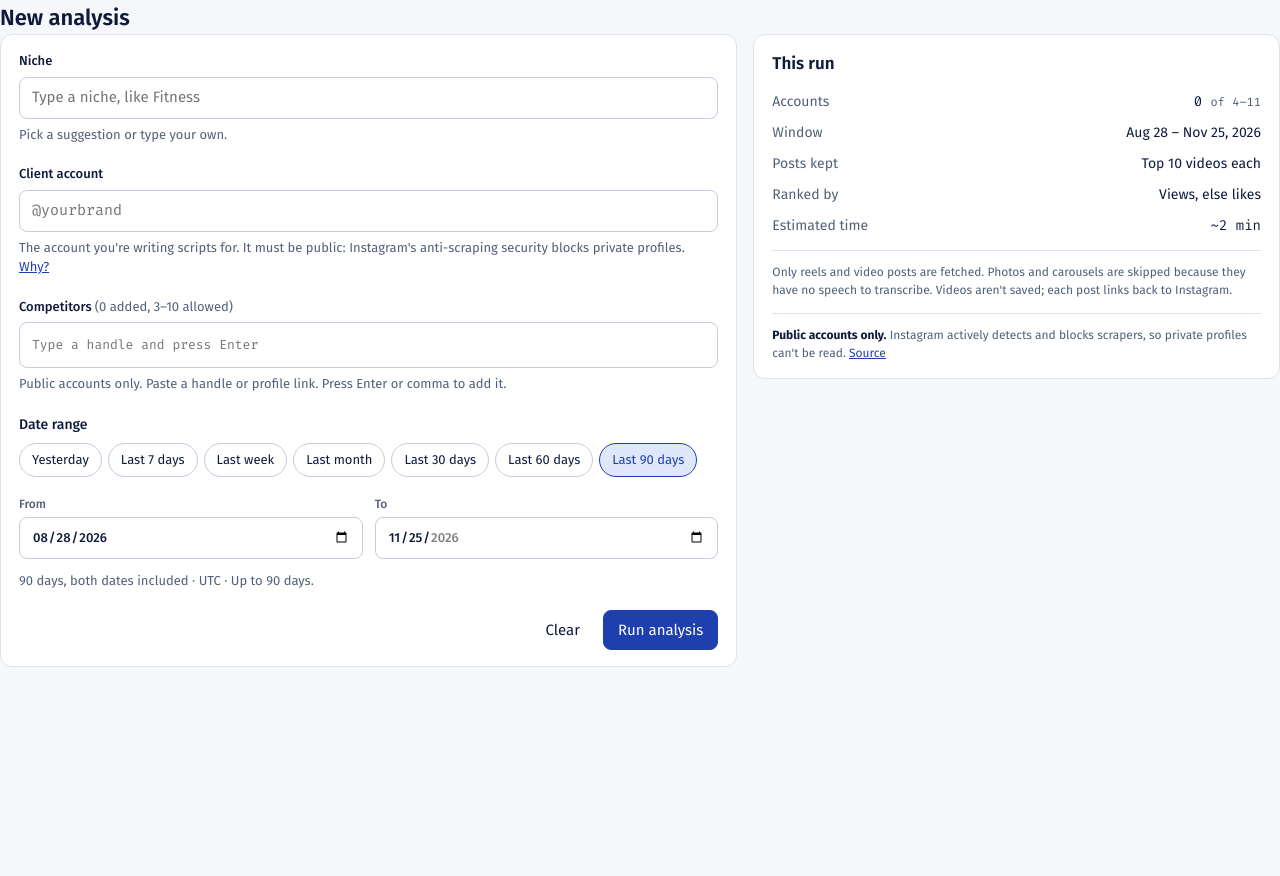
it: NewRunForm › shows field errors from a 400
Type "AI" into the dropdown labelled "Niche".
click(369, 98); type("AI")  # box [19,76,718,118]
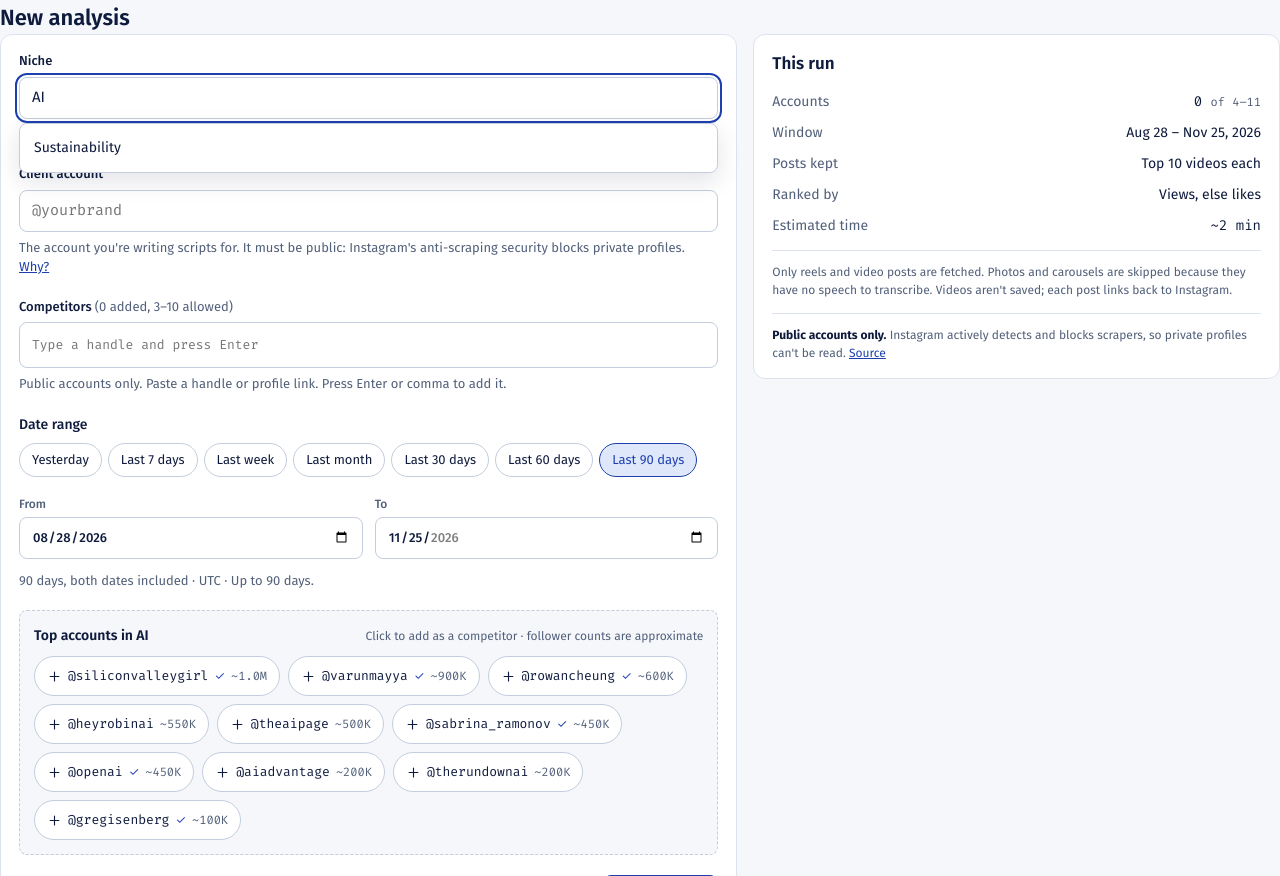
Type "me" into the field labelled "Client account".
click(369, 210); type("me")  # box [19,190,718,232]
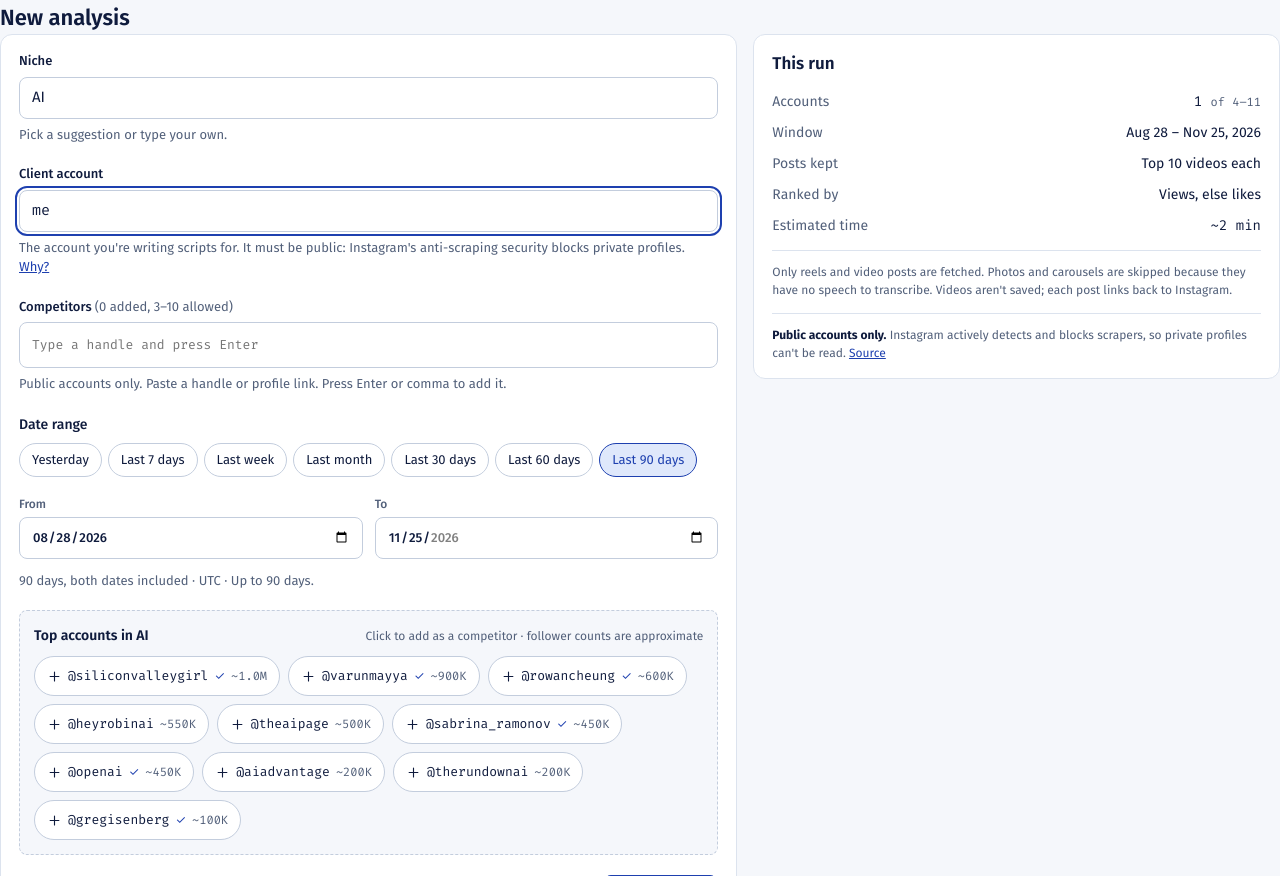
Type "a,b,c," into the field with placeholder "Type a handle and press Enter".
click(369, 345); type("a,b,c,")  # box [26,329,711,361]
(page scrolled)
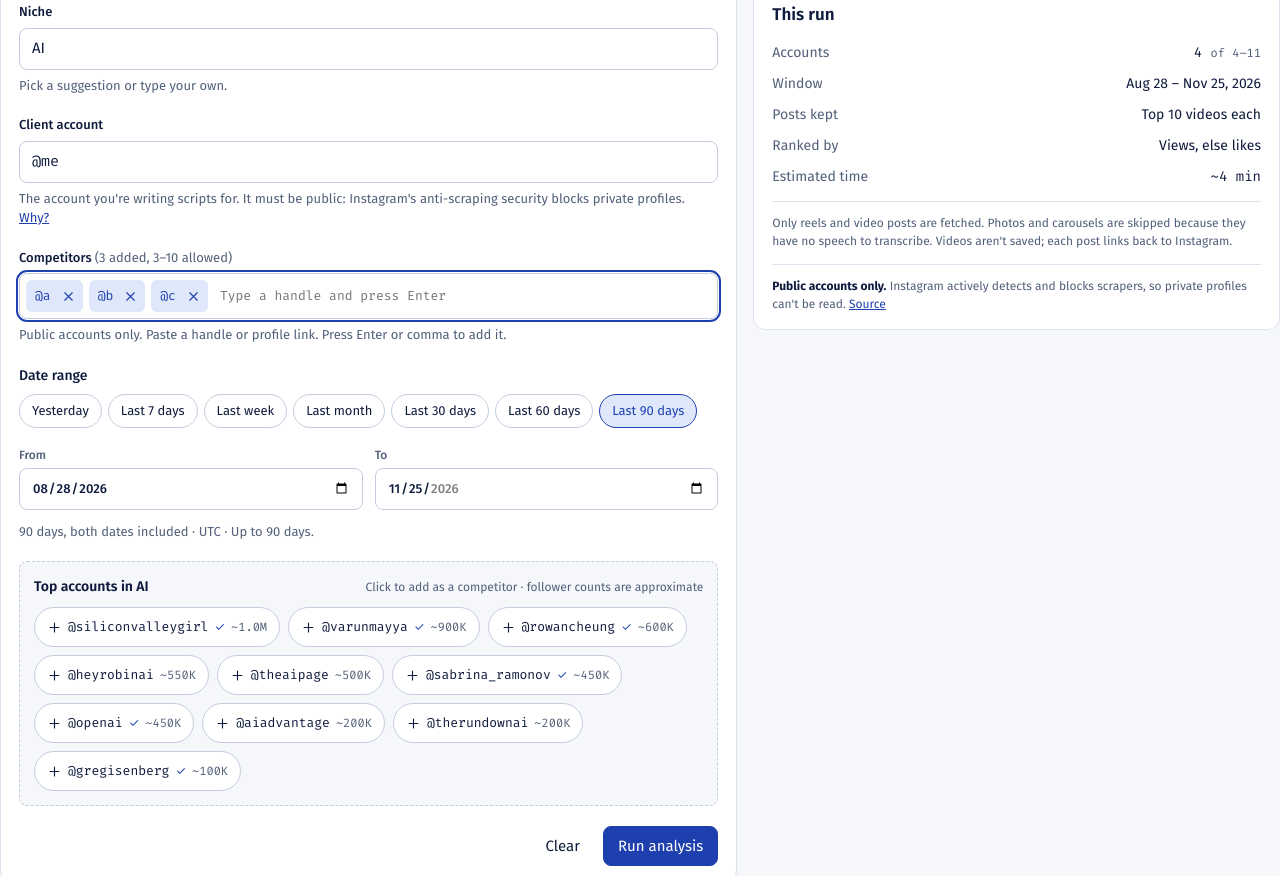
Click the button "Run analysis".
click(661, 846)  # box [603,826,718,866]
(page scrolled)
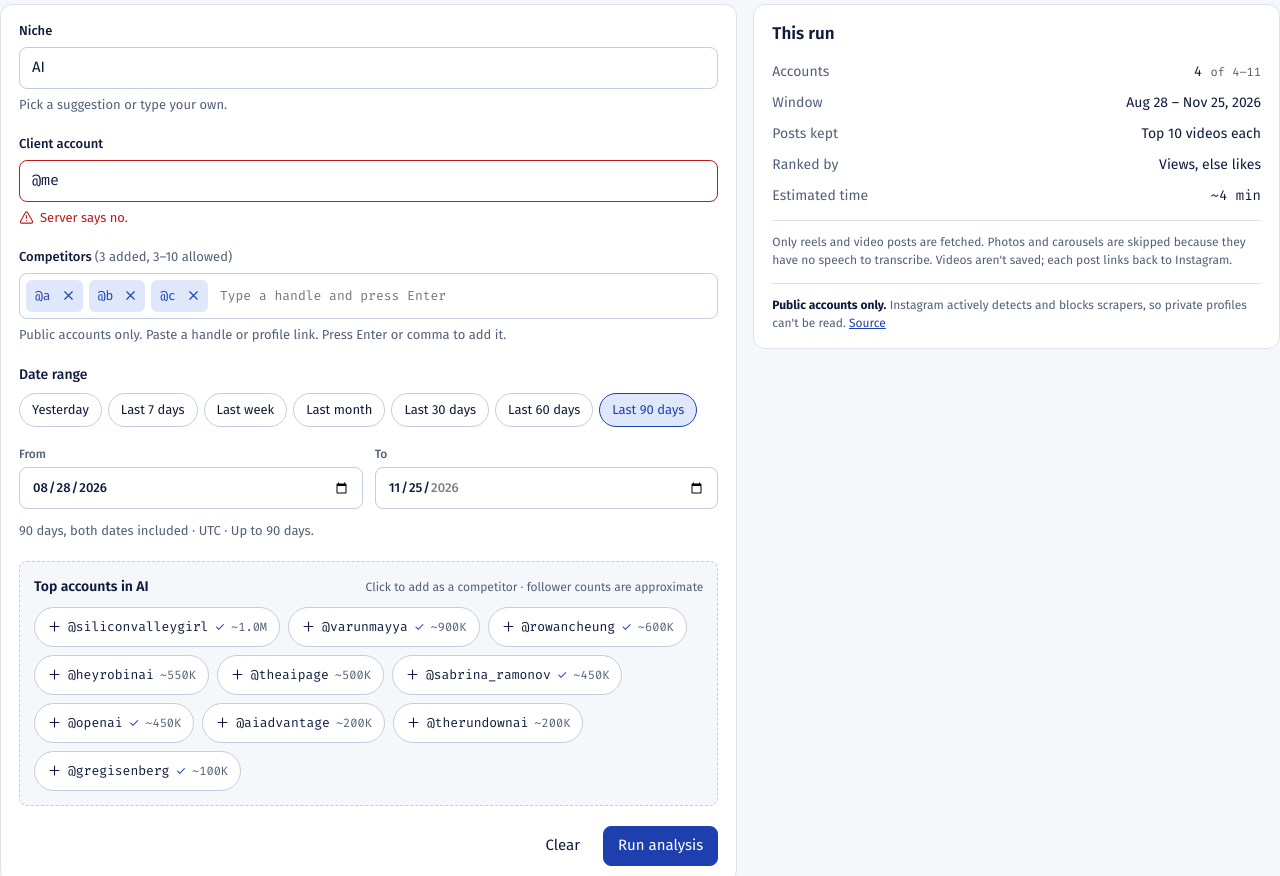
expect the text "Server says no." is shown: met, box [19,210,128,225]
